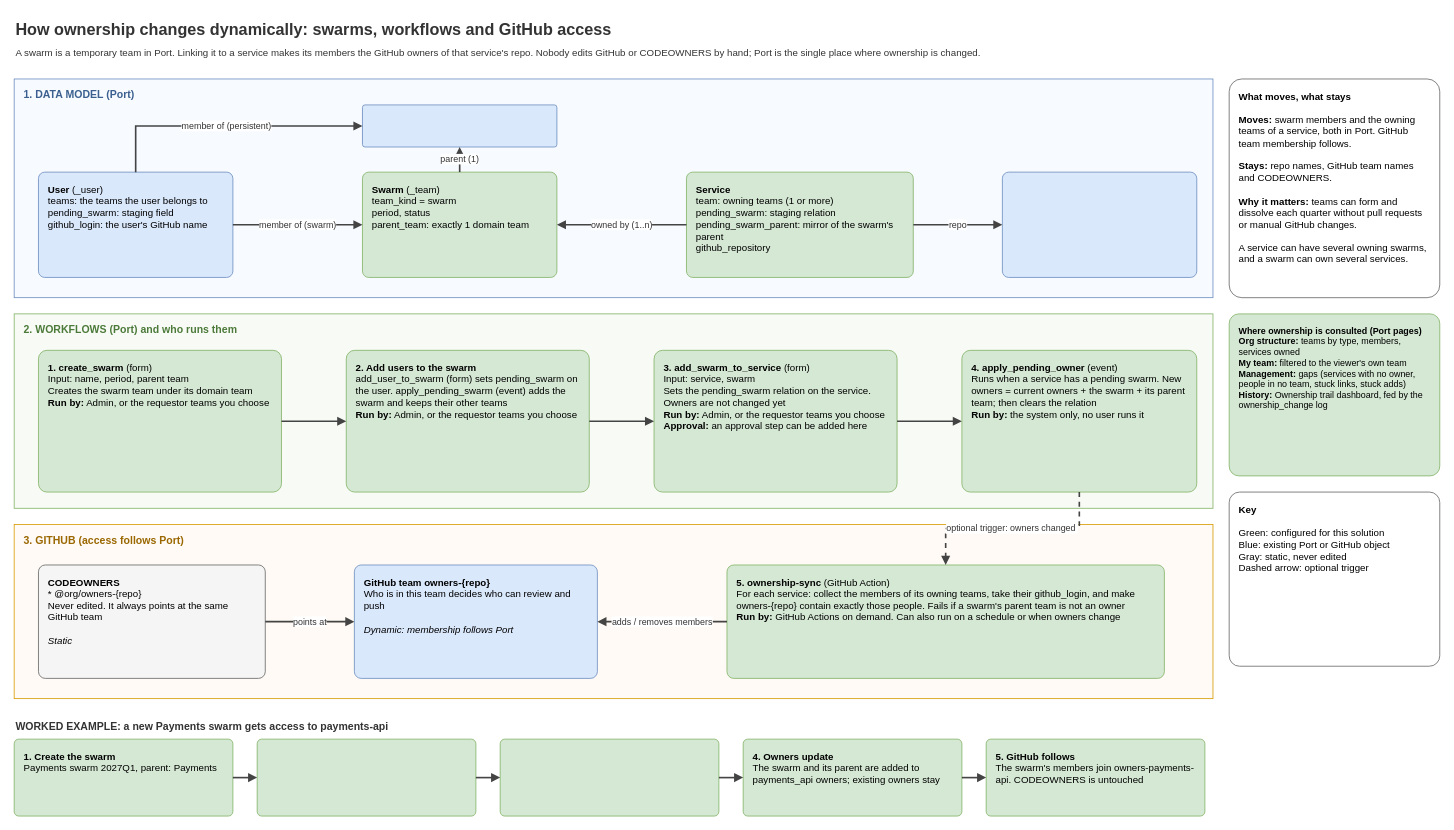
The diagram is 1454 pixels wide and 830 high, and some of its shapes have lost their labels. Each missing label, with the box of its shape:
2. Add members Run add_user_to_swarm in the Port UI for each member: (256, 738, 476, 816)
3. Link to the service Run add_swarm_to_service for payments_api and the swarm: (499, 738, 719, 816)
Domain team (_team) Persistent, e.g. Payments: (362, 104, 557, 147)
GitHub repository githubTeams: owners-{repo} codeowners: static file: (1002, 171, 1197, 277)
